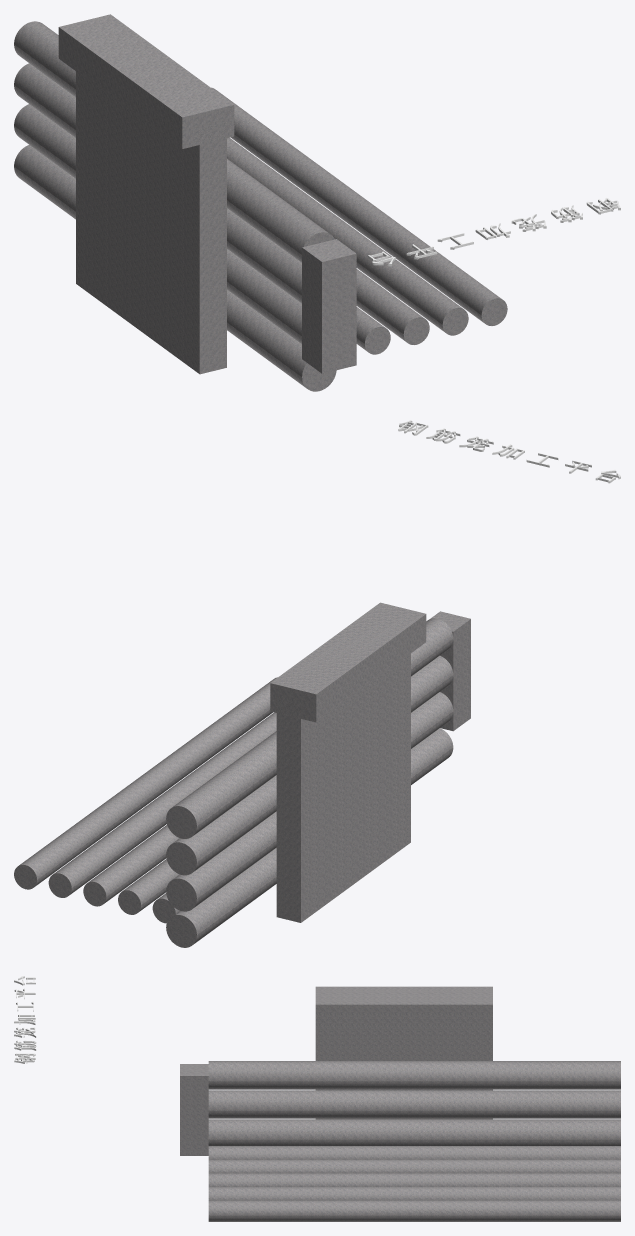
The picture shows the model from 3 angles, top to bottom: view 1: azimuth 30°, elevation 25°; view 2: azimuth 150°, elevation 25°; view 3: azimuth 270°, elevation 25°; orthographic projection. The views are drawn at different scales.
Visible parts, largest first — view 1: 0_2_0_0_3_3_3; view 2: 0_2_0_0_3_3_3; view 3: 0_2_0_0_3_3_3.
Boxes of the visible parts, x1,y1,x2,y2 form: 0_2_0_0_3_3_3: (14,14,620,391); 0_2_0_0_3_3_3: (14,420,620,947); 0_2_0_0_3_3_3: (14,976,620,1221).
Size of the model in its own units: 6.11 by 5.94 by 16.97.
Materials: 15 (14 with a texture image).
